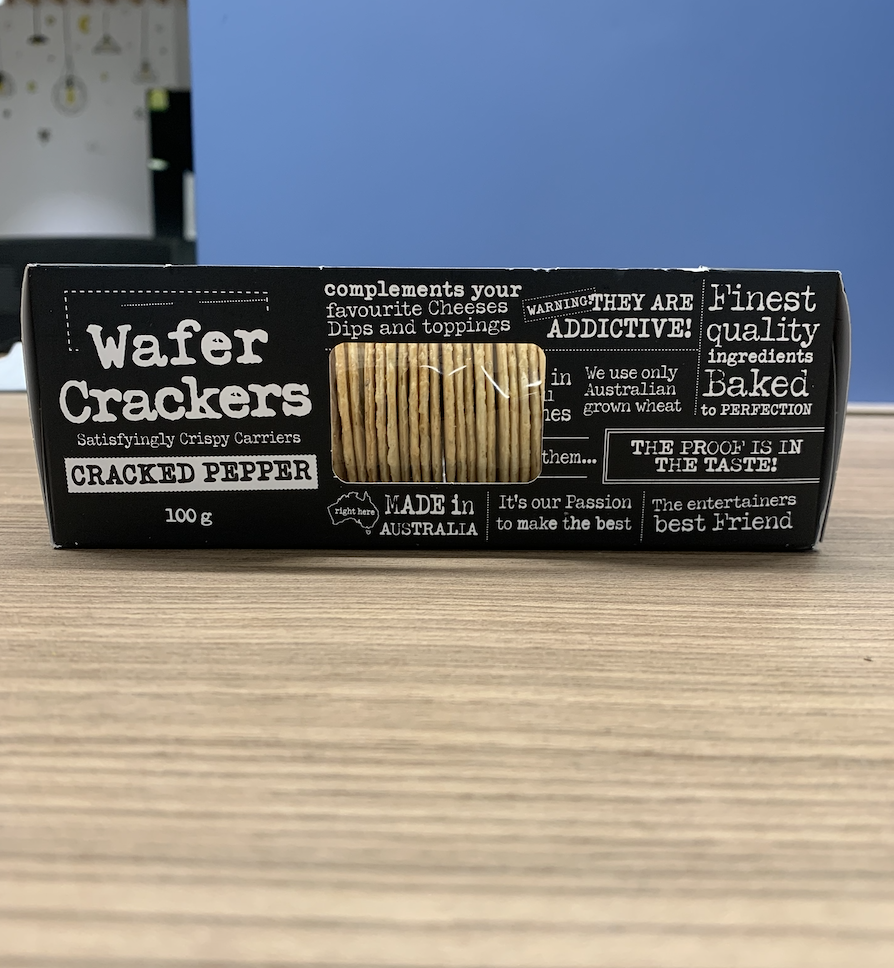crackers_100g-199g: (44, 272, 826, 543)
